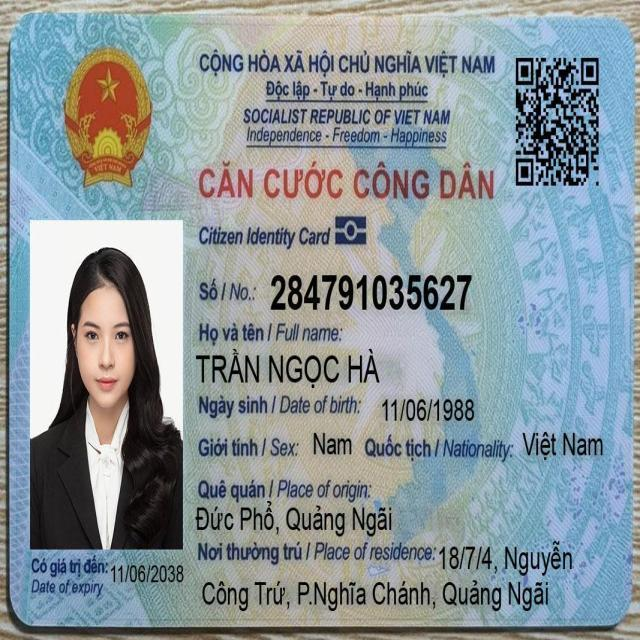current_place: (197, 575, 552, 617), (437, 537, 576, 579)
dob: (379, 395, 478, 427)
expire_date: (109, 562, 186, 587)
gender: (311, 428, 354, 460)
id: (267, 269, 476, 317)
name: (194, 344, 383, 393)
nationality: (520, 426, 606, 466)
origin_place: (191, 497, 396, 540)
